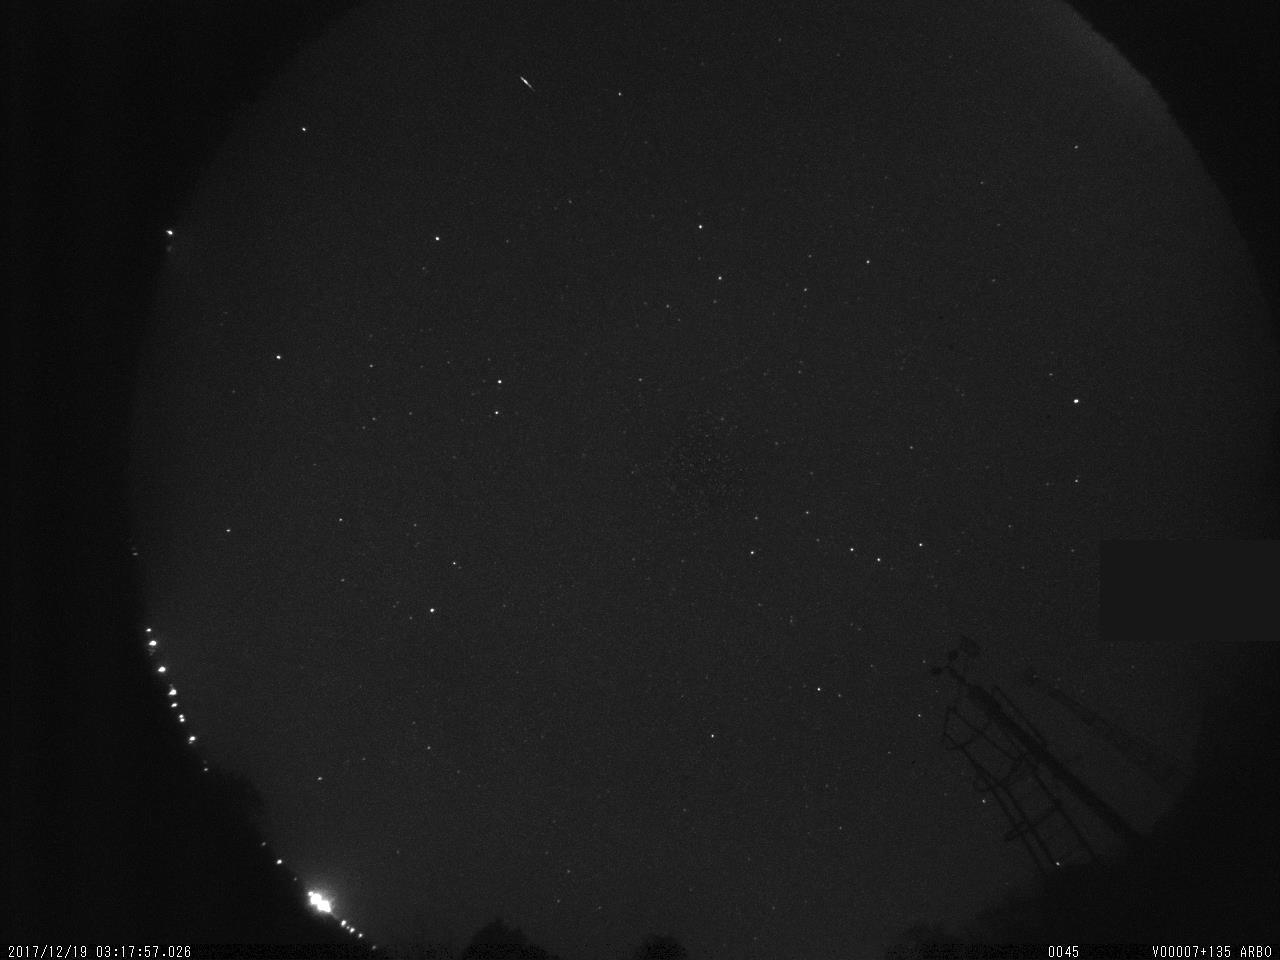meteor: (506, 71, 542, 102)
